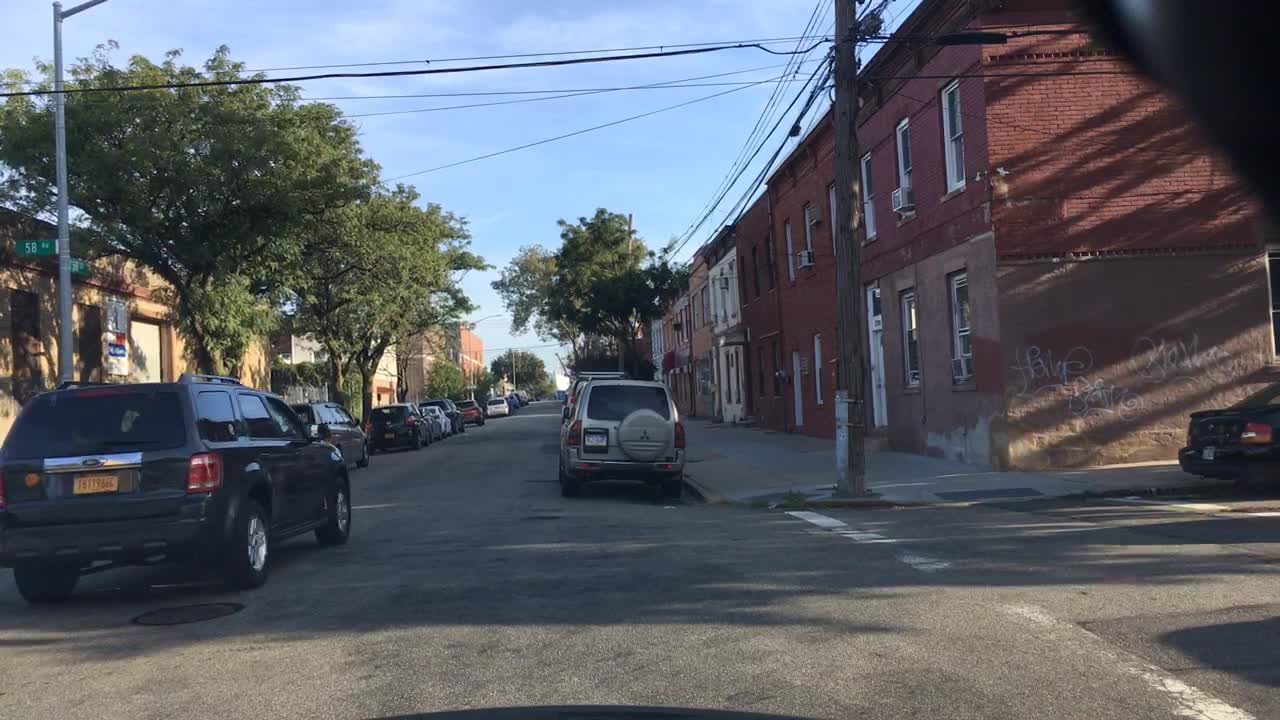car: (1, 370, 357, 612), (553, 373, 690, 502), (1175, 371, 1278, 493), (288, 396, 373, 472), (559, 368, 628, 430), (364, 400, 436, 456), (415, 396, 468, 435), (416, 403, 455, 440), (451, 397, 486, 428), (510, 386, 531, 405), (501, 391, 522, 410), (510, 390, 523, 407), (526, 395, 538, 403)
traffic sign: (13, 237, 58, 258), (71, 255, 95, 279)
